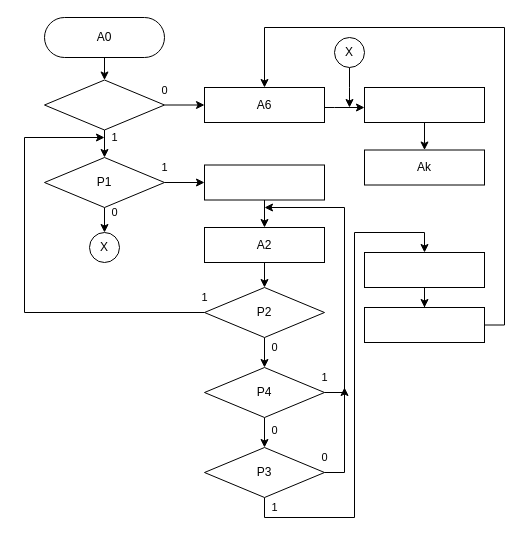
The diagram is 530 pixels wide and 543 high, and some of its shapes have lost their labels. The box of each missing label's shape, as (x1, y1, x2, y2) in pixels:
A1: (204, 164, 324, 200)
A3: (364, 306, 484, 342)
A4: (364, 252, 484, 288)
A5: (364, 86, 484, 122)
P5: (44, 79, 164, 130)
